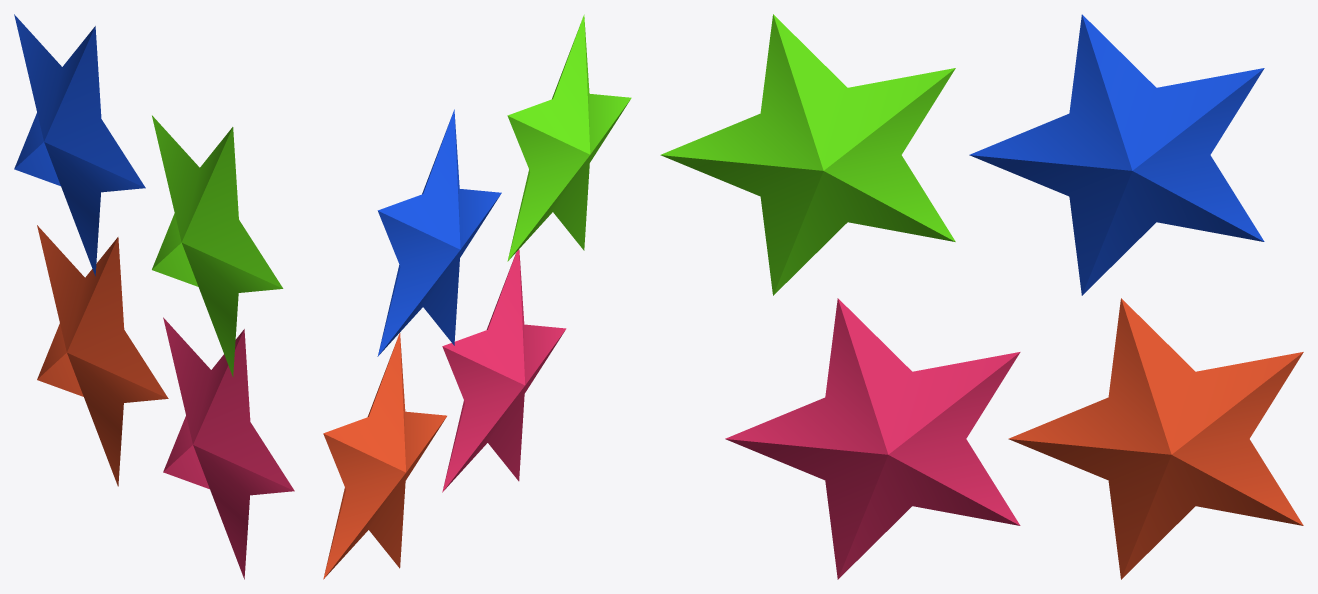
Rendered from star.glb.
3 views of the same model, side by side, from view 1: azimuth 30°, elevation 25°; view 2: azimuth 150°, elevation 25°; view 3: azimuth 270°, elevation 25° (orthographic). The views are drawn at different scales.
Parts seen in each view (by area): view 1: Star_01.003, Star_01.002, Star_01.001, Star_01; view 2: Star_01.001, Star_01.003, Star_01.002, Star_01; view 3: Star_01, Star_01.001, Star_01.002, Star_01.003.
Boxes of the visible parts, bbox=[...] form: Star_01.003: bbox=[152, 115, 283, 376]; Star_01.002: bbox=[14, 14, 145, 276]; Star_01.001: bbox=[37, 225, 168, 486]; Star_01: bbox=[163, 317, 294, 579]; Star_01.001: bbox=[323, 333, 446, 579]; Star_01.003: bbox=[507, 14, 631, 261]; Star_01.002: bbox=[377, 109, 501, 356]; Star_01: bbox=[442, 249, 566, 492]; Star_01: bbox=[725, 298, 1020, 579]; Star_01.001: bbox=[1008, 298, 1303, 579]; Star_01.002: bbox=[969, 14, 1264, 295]; Star_01.003: bbox=[660, 14, 955, 295].
Bounding box in the file's own units: 83.21 × 392 × 421.
